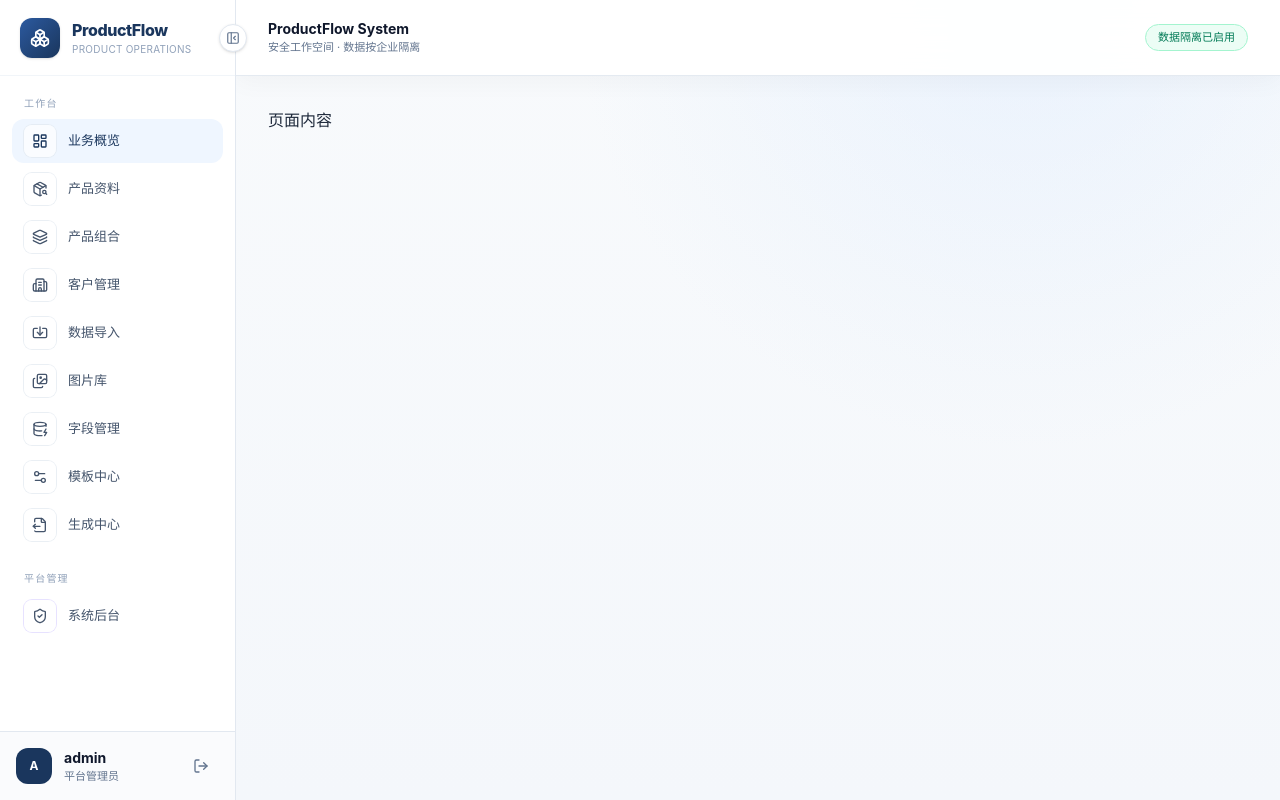
Test case: AppLayout desktop sidebar › collapses and expands while keeping navigation accessible
Click the button named "收起侧边栏" at (233, 38), box [219,24,247,52]
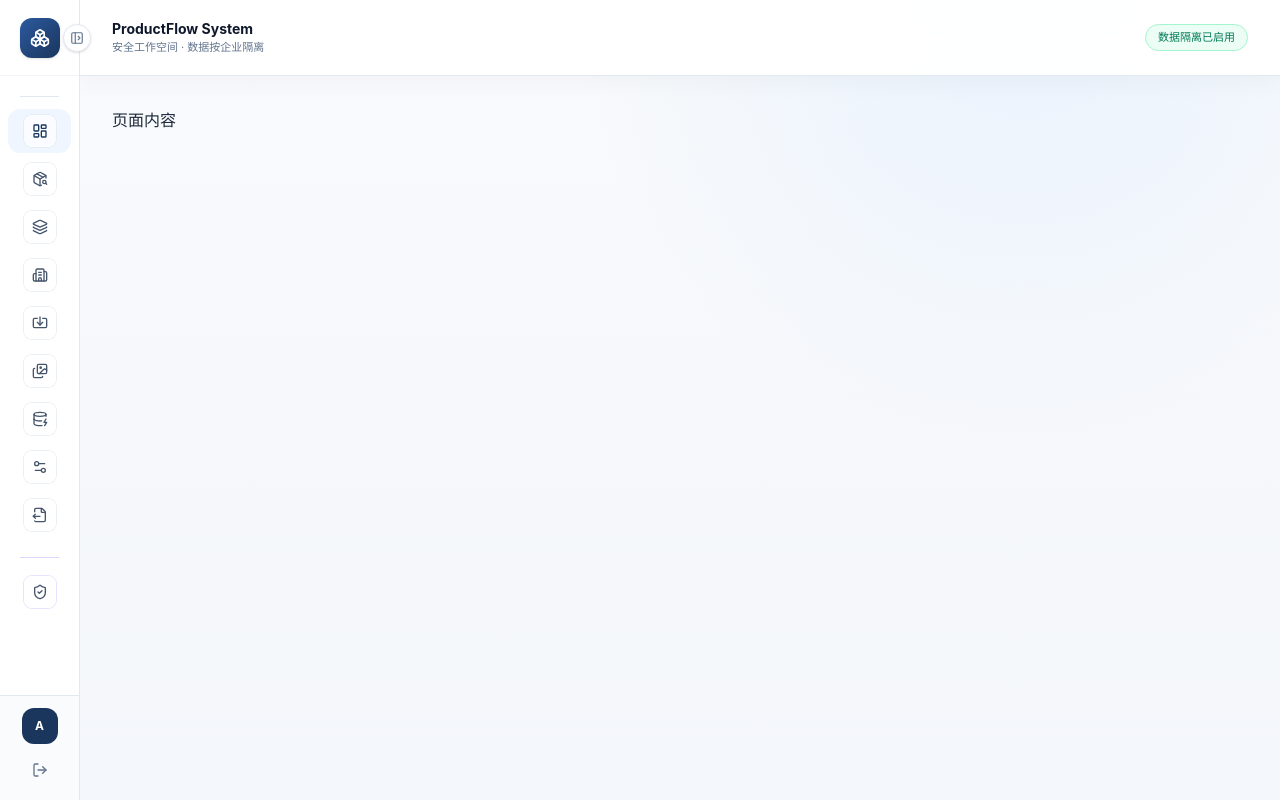
Expected: the link named "产品资料" is shown, [24,163,56,195]
Now the button named "展开侧边栏" is shown
Click the button named "展开侧边栏" at (77, 38), box [63,24,91,52]
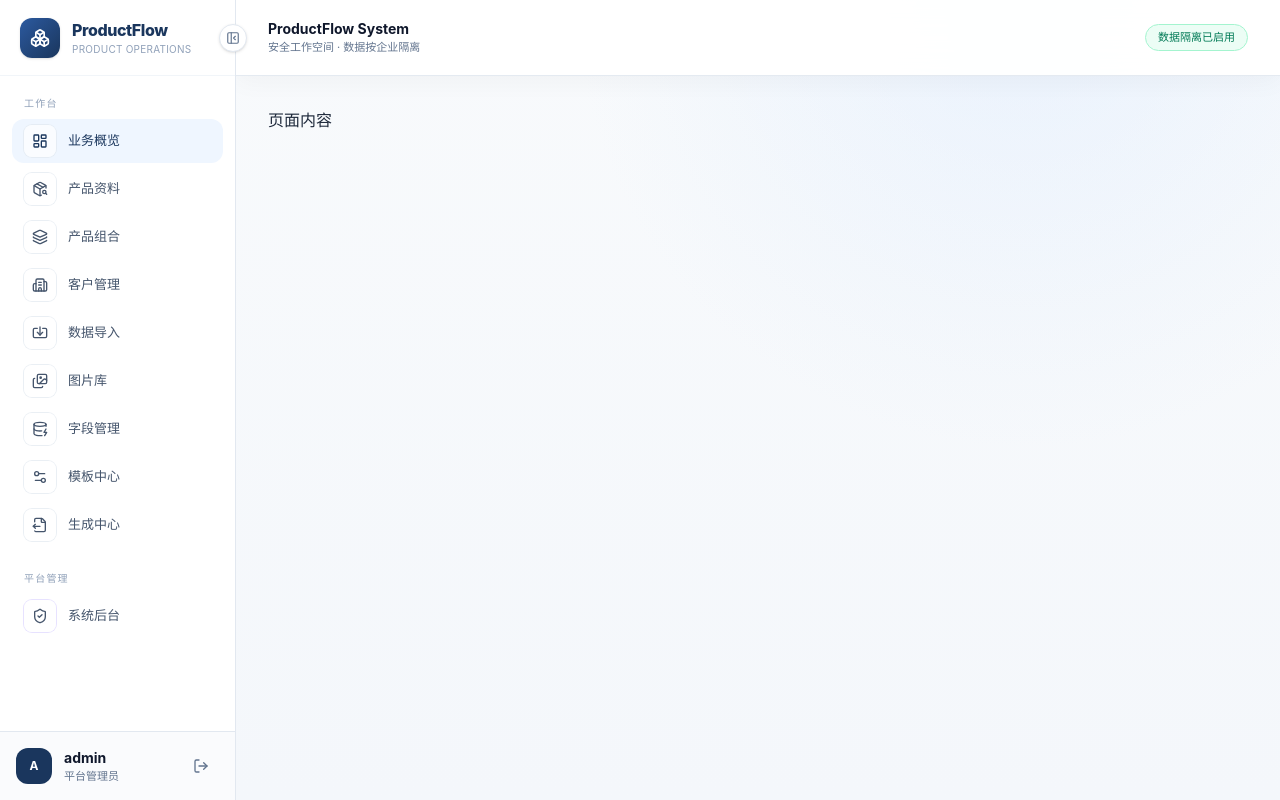
Now the button named "收起侧边栏" is shown, box [219,24,247,52]
